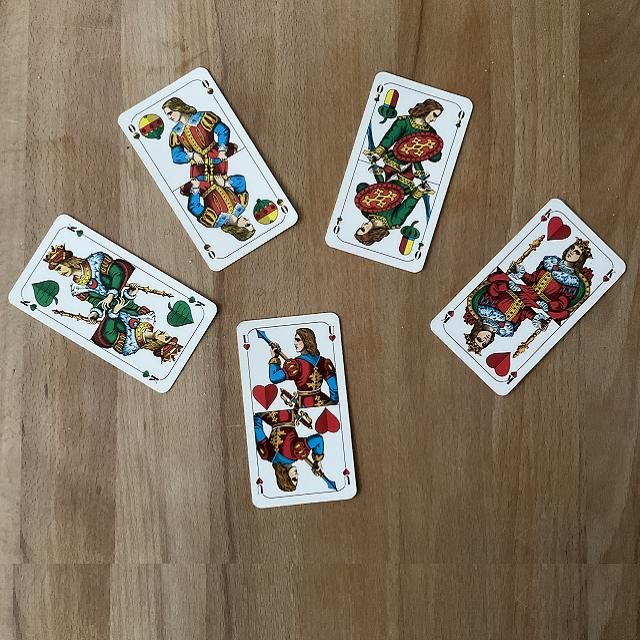EichelOber: (322, 69, 477, 276)
GrasKoenig: (6, 212, 223, 398)
HerzUnter: (236, 309, 360, 509)
Herzkoenig: (429, 194, 632, 402)
SchellenOber: (113, 62, 304, 277)
